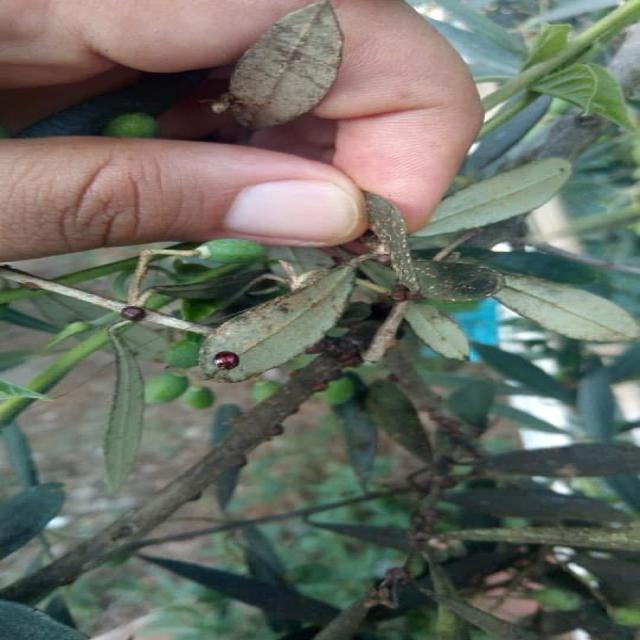Black Scale: (199, 260, 358, 383), (379, 282, 424, 305), (120, 305, 147, 321)
